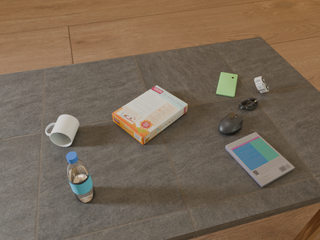book: (225, 132, 295, 187)
bottle: (66, 152, 95, 203)
box: (112, 85, 187, 145)
cup: (46, 115, 79, 146)
mouse: (219, 113, 243, 135)
phone: (216, 72, 238, 97)
toy_car: (254, 76, 269, 93)
